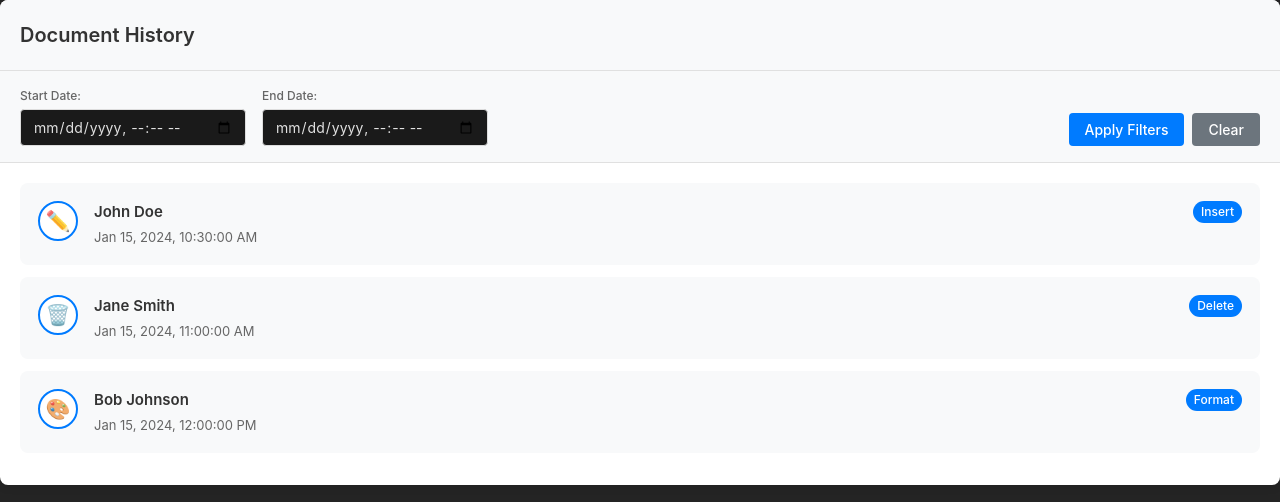
Scenario: DocumentHistory › Date Range Filtering › clears filters when Clear button is clicked
Type "2024-01-15T10:00" into the field labelled "Start Date:" at (133, 128), box [20, 109, 246, 146]
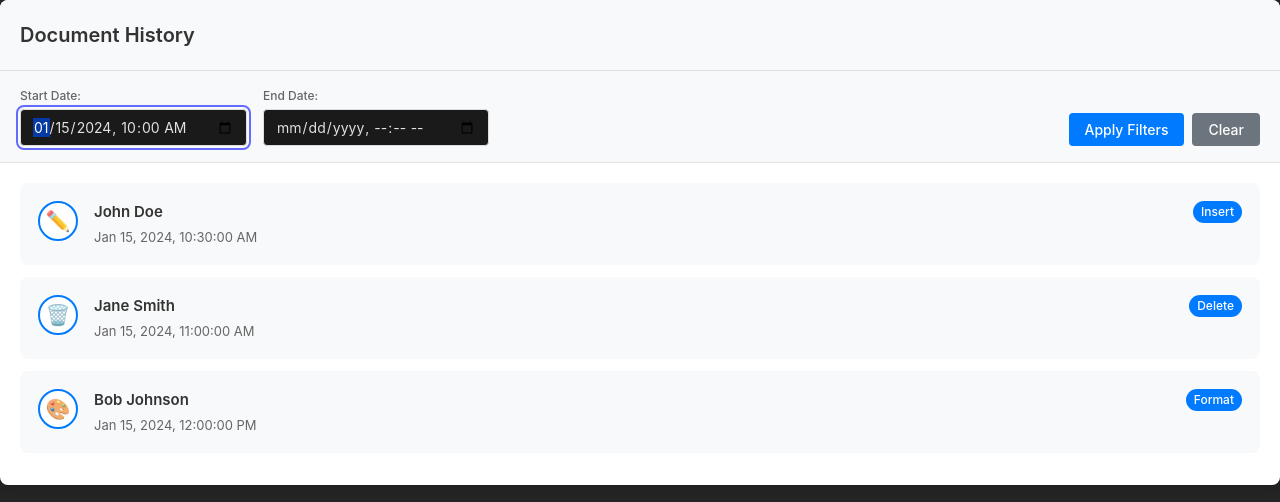
Click the button "Clear" at (1226, 130), box [1192, 113, 1260, 146]
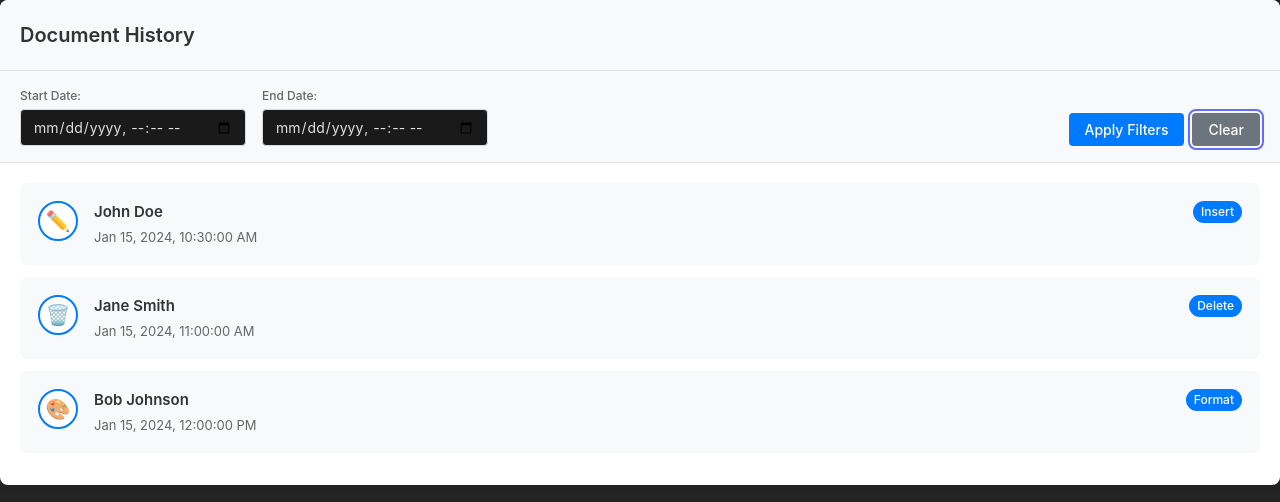
Now the field labelled "Start Date:" is empty, box [20, 109, 246, 146]
